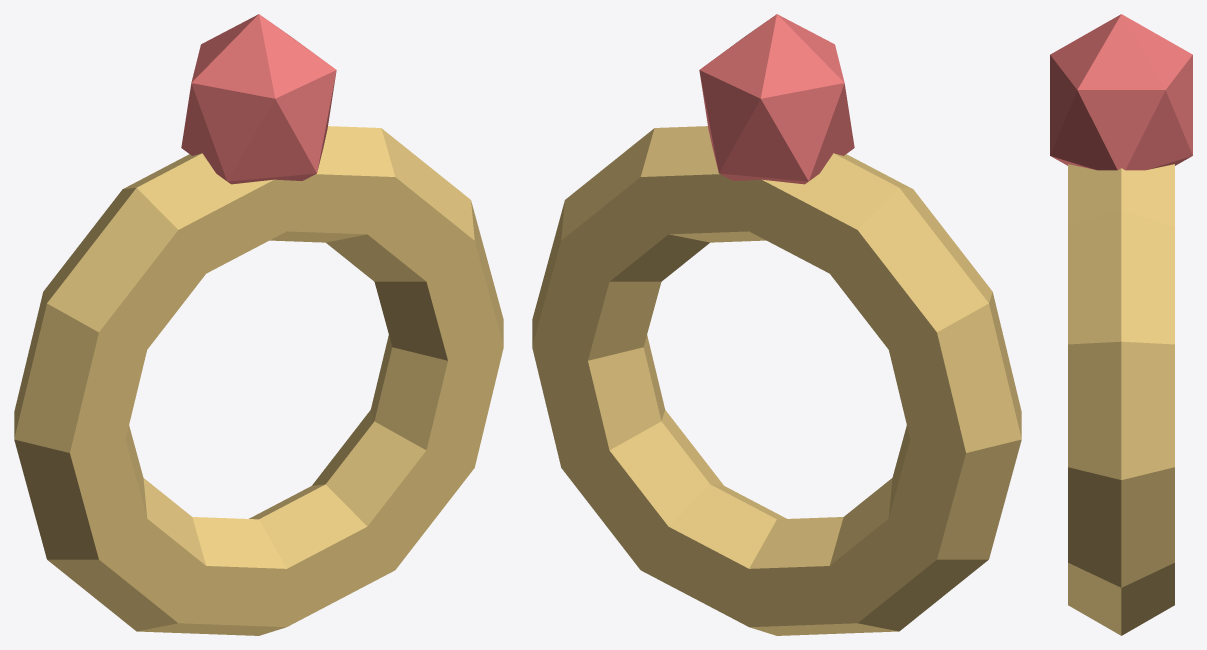
Rendered from RingVitality.fbx.
The picture shows the model from 3 angles, left to right: view 1: azimuth 30°, elevation 25°; view 2: azimuth 150°, elevation 25°; view 3: azimuth 270°, elevation 25°; orthographic projection. The views are drawn at different scales.
Parts seen in each view (by area): view 1: fam_gold, fam_ruby_emit; view 2: fam_gold, fam_ruby_emit; view 3: fam_gold, fam_ruby_emit.
Boxes of the visible parts, bbox=[...] form: fam_gold: bbox=[14, 126, 503, 635]; fam_ruby_emit: bbox=[181, 14, 336, 184]; fam_gold: bbox=[532, 126, 1021, 635]; fam_ruby_emit: bbox=[699, 14, 854, 184]; fam_gold: bbox=[1068, 164, 1174, 635]; fam_ruby_emit: bbox=[1050, 14, 1192, 170].
Bounding box in the file's own units: 0.861 × 1.05 × 0.2263.
